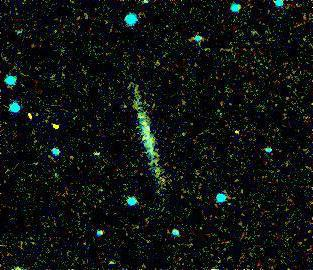star: (2, 254, 32, 270)
